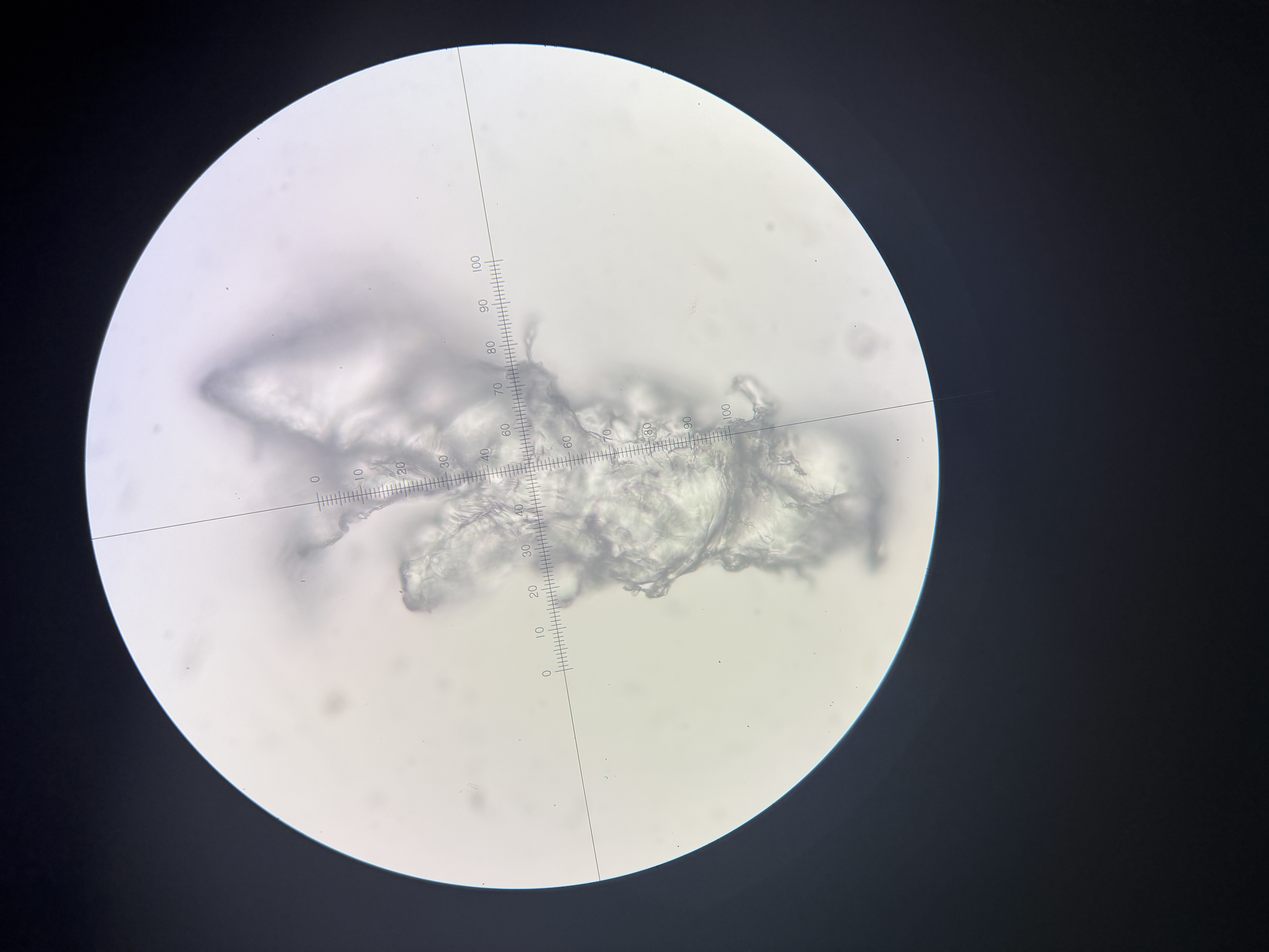microplastic: (198, 322, 888, 615)
